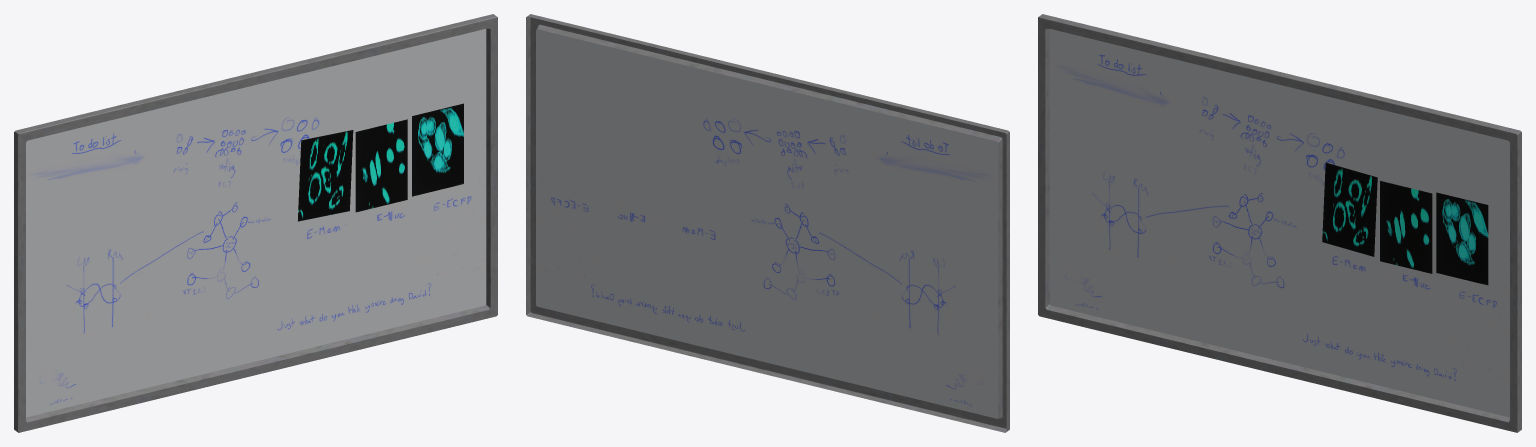
Rendered from whiteboard.dae.
3 views of the same model, side by side, from view 1: azimuth 30°, elevation 25°; view 2: azimuth 150°, elevation 25°; view 3: azimuth 330°, elevation 25° (orthographic).
Visible parts, largest first — view 1: polySurface185; view 2: polySurface185; view 3: polySurface185.
Part boxes in pixels (box(x1,y1,x2,y2)): polySurface185: box(14, 14, 497, 432); polySurface185: box(526, 14, 1009, 432); polySurface185: box(1038, 14, 1521, 432).
Bounding box in the file's own units: 174 × 104 × 2.52.
